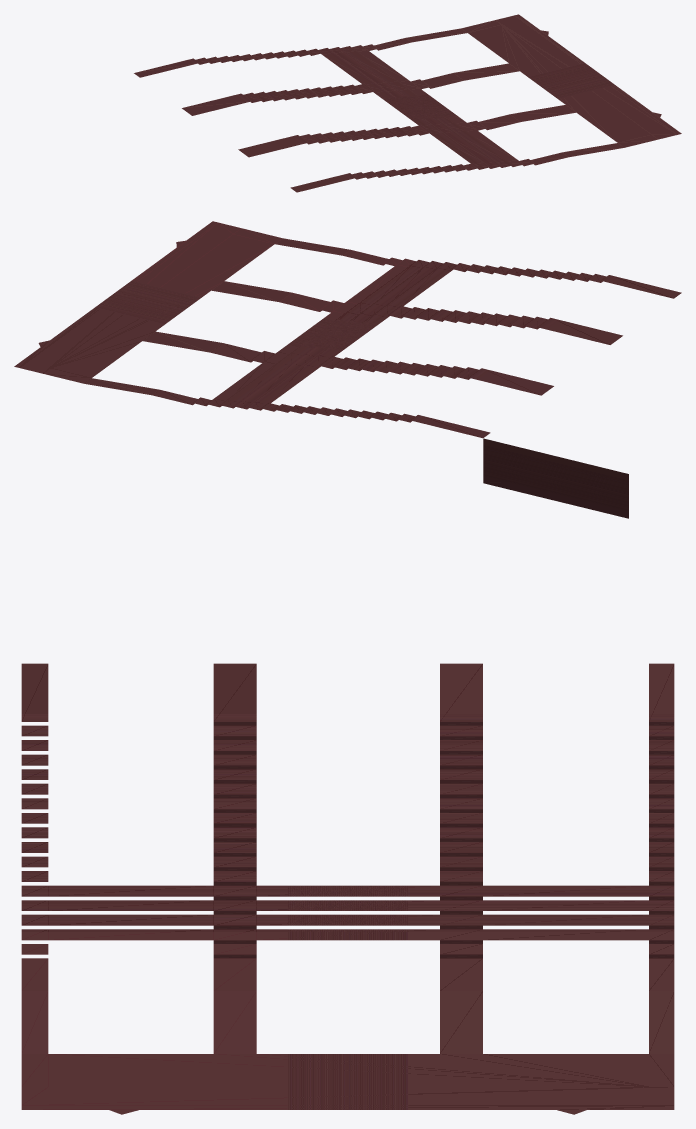
The picture shows the model from 3 angles, top to bottom: view 1: azimuth 30°, elevation 25°; view 2: azimuth 150°, elevation 25°; view 3: azimuth 270°, elevation 25°; orthographic projection. The views are drawn at different scales.
Parts seen in each view (by area): view 1: 对象3166_网格.010_网格.009; view 2: 对象3166_网格.010_网格.009; view 3: 对象3166_网格.010_网格.009.
Part boxes in pixels (x1,y1,x2,y2): 对象3166_网格.010_网格.009: (134,14,681,192); 对象3166_网格.010_网格.009: (14,221,681,518); 对象3166_网格.010_网格.009: (21,663,674,1114).
Bounding box in the file's own units: 41.11 × 2.85 × 22.8.
1 material, 1 textured.
